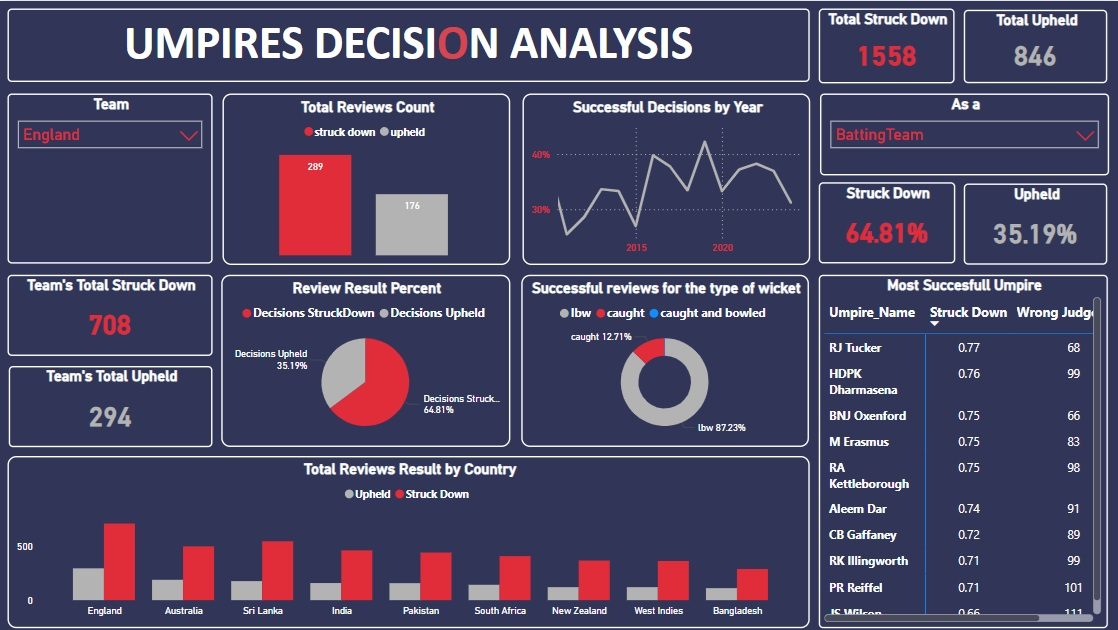

What the dashboard file says about the page in this screenshot:
{"tool":"powerbi","page":{"name":"Page 1","canvas":[1280,720],"ordinal":0},"visuals":[{"type":"columnChart","title":"Total Reviews Count","fields":{"Category":["Reviews.Opposition","Reviews.Review_Decision"],"Y":["Reviews.Review_Decision"],"Series":["Reviews.Review_Decision"]},"box":[254.5,105.5,329.1,196.4],"z":0},{"type":"slicer","title":"Team","fields":{"Values":["Reviews.Opposition"]},"box":[8.8,105.3,234.1,194.7],"z":1000},{"type":"donutChart","title":"Successful reviews for the type of wicket","fields":{"Category":["Reviews.WicketType"],"Y":["Reviews.WicketType"]},"box":[596.1,312.9,328.6,197.1],"z":2000},{"type":"lineChart","title":"Successful Decisions by Year","fields":{"Category":["Reviews.Year"],"Y":["Reviews.Decisions_Upheld"]},"box":[597.3,105.5,329.1,196.4],"z":3000},{"type":"pieChart","title":"Review Result Percent","fields":{"Y":["Reviews.Decisions_StruckDown","Reviews.Decisions_Upheld"]},"box":[253.3,312.9,330,197.1],"z":4000},{"type":"card","title":"Struck Down","fields":{"Values":["Reviews.Decisions_StruckDown"]},"box":[936.1,207.1,155.7,92.9],"z":5000},{"type":"slicer","title":"As a","fields":{"Values":["Reviews.ReviewBy"]},"box":[936.7,105,330,93.3],"z":6000},{"type":"card","title":"Upheld","fields":{"Values":["Reviews.Decisions_Upheld"]},"box":[1101.9,208.6,164.3,92.9],"z":7000},{"type":"lineClusteredColumnComboChart","title":"Total Reviews Result by Country","fields":{"Category":["Reviews.Opposition"],"Y":["Reviews.All_Decisions_Upheld","Reviews.All_Decisions_Struck_Down"]},"box":[8.6,520,917.1,197.1],"z":8000},{"type":"card","title":"Team''s Total Struck Down","fields":{"Values":["Reviews.All_Decisions_Struck_Down"]},"box":[8.6,312.9,234.3,92.9],"z":9000},{"type":"card","title":"Team''s Total Upheld","fields":{"Values":["Reviews.All_Decisions_Upheld"]},"box":[10,417.1,232.9,92.9],"z":10000},{"type":"textbox","box":[8.6,8.6,917.1,84.3],"z":11000},{"type":"card","title":"Total Struck Down","fields":{"Values":["Reviews.All_Decisions_Struck_Down"]},"box":[935.5,9.1,155.2,85.2],"z":12000},{"type":"card","title":"Total Upheld","fields":{"Values":["Reviews.All_Decisions_Upheld"]},"box":[1101.4,10.7,164.4,83.7],"z":13000},{"type":"pivotTable","title":"Most Succesfull Umpire","fields":{"Rows":["Reviews.Umpire_Name"],"Values":["Reviews.Reviews_StruckDown_By_Umpire","Reviews.Total_Reviews_Remain_Upheld"]},"box":[936.1,312.9,330,404.3],"z":14000}]}

Visuals, with their boxes in screenshot pixels (x1, y1, x2, y2), scaled from the page's 1280x720 canvas onto the 1118x630 screenshot:
"Total Reviews Count" columnChart: bbox(222, 92, 510, 264)
"Team" slicer: bbox(8, 92, 212, 262)
"Successful reviews for the type of wicket" donutChart: bbox(521, 274, 808, 446)
"Successful Decisions by Year" lineChart: bbox(522, 92, 809, 264)
"Review Result Percent" pieChart: bbox(221, 274, 509, 446)
"Struck Down" card: bbox(818, 181, 954, 262)
"As a" slicer: bbox(818, 92, 1106, 174)
"Upheld" card: bbox(962, 183, 1106, 264)
"Total Reviews Result by Country" lineClusteredColumnComboChart: bbox(8, 455, 809, 627)
"Team''s Total Struck Down" card: bbox(8, 274, 212, 355)
"Team''s Total Upheld" card: bbox(9, 365, 212, 446)
textbox: bbox(8, 8, 809, 81)
"Total Struck Down" card: bbox(817, 8, 953, 83)
"Total Upheld" card: bbox(962, 9, 1106, 83)
"Most Succesfull Umpire" pivotTable: bbox(818, 274, 1106, 628)
